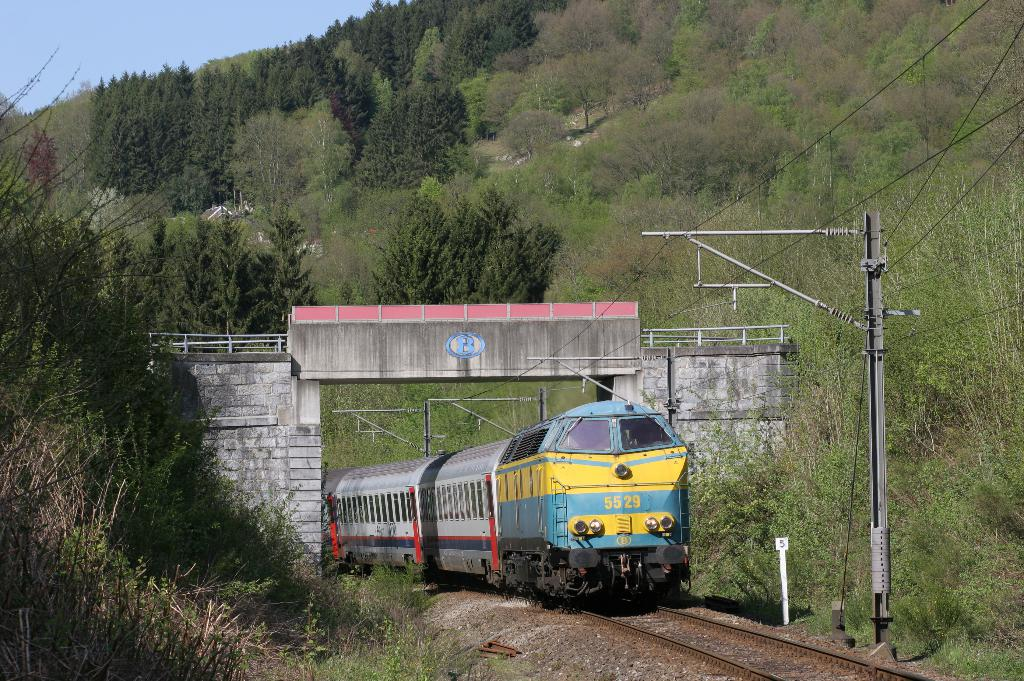Tree: (0, 0, 1023, 680), (371, 184, 562, 300)
